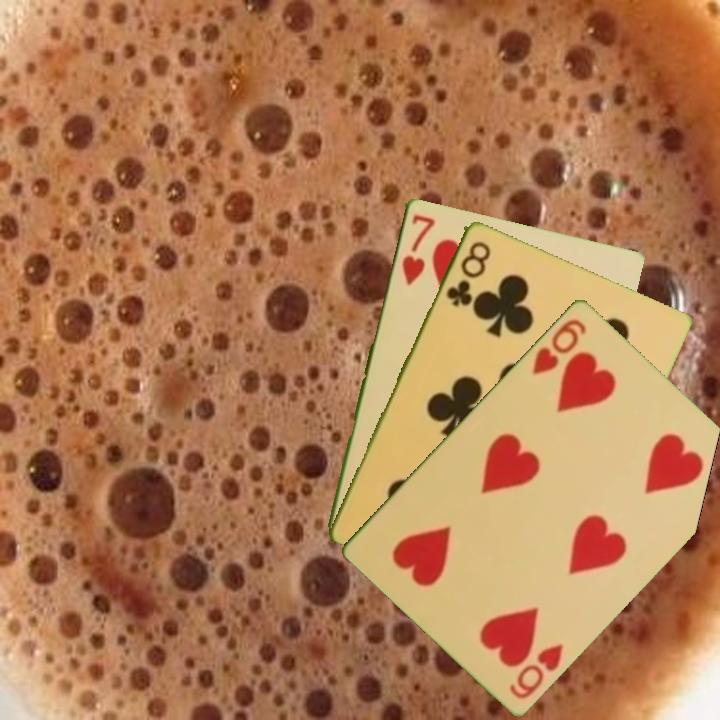6h: (505, 639, 567, 702), (528, 314, 589, 377)
7h: (398, 210, 438, 288)
8c: (442, 237, 494, 309)
